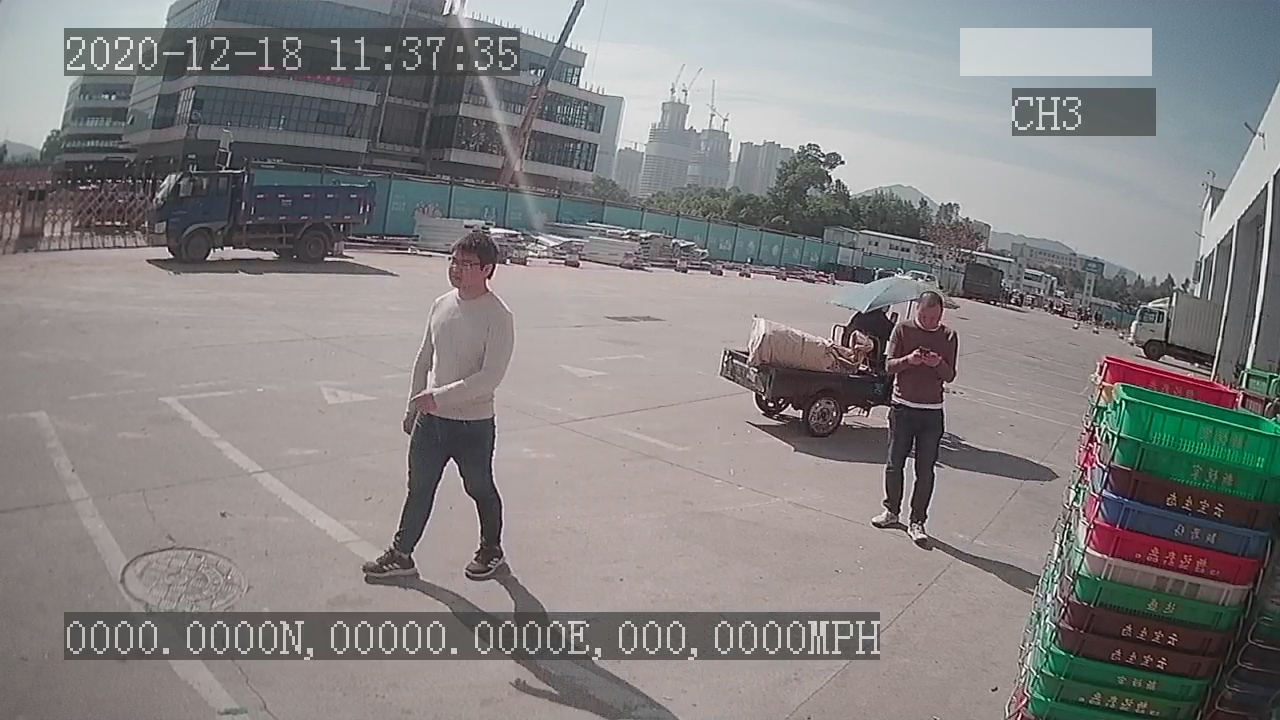person: (363, 227, 519, 586)
